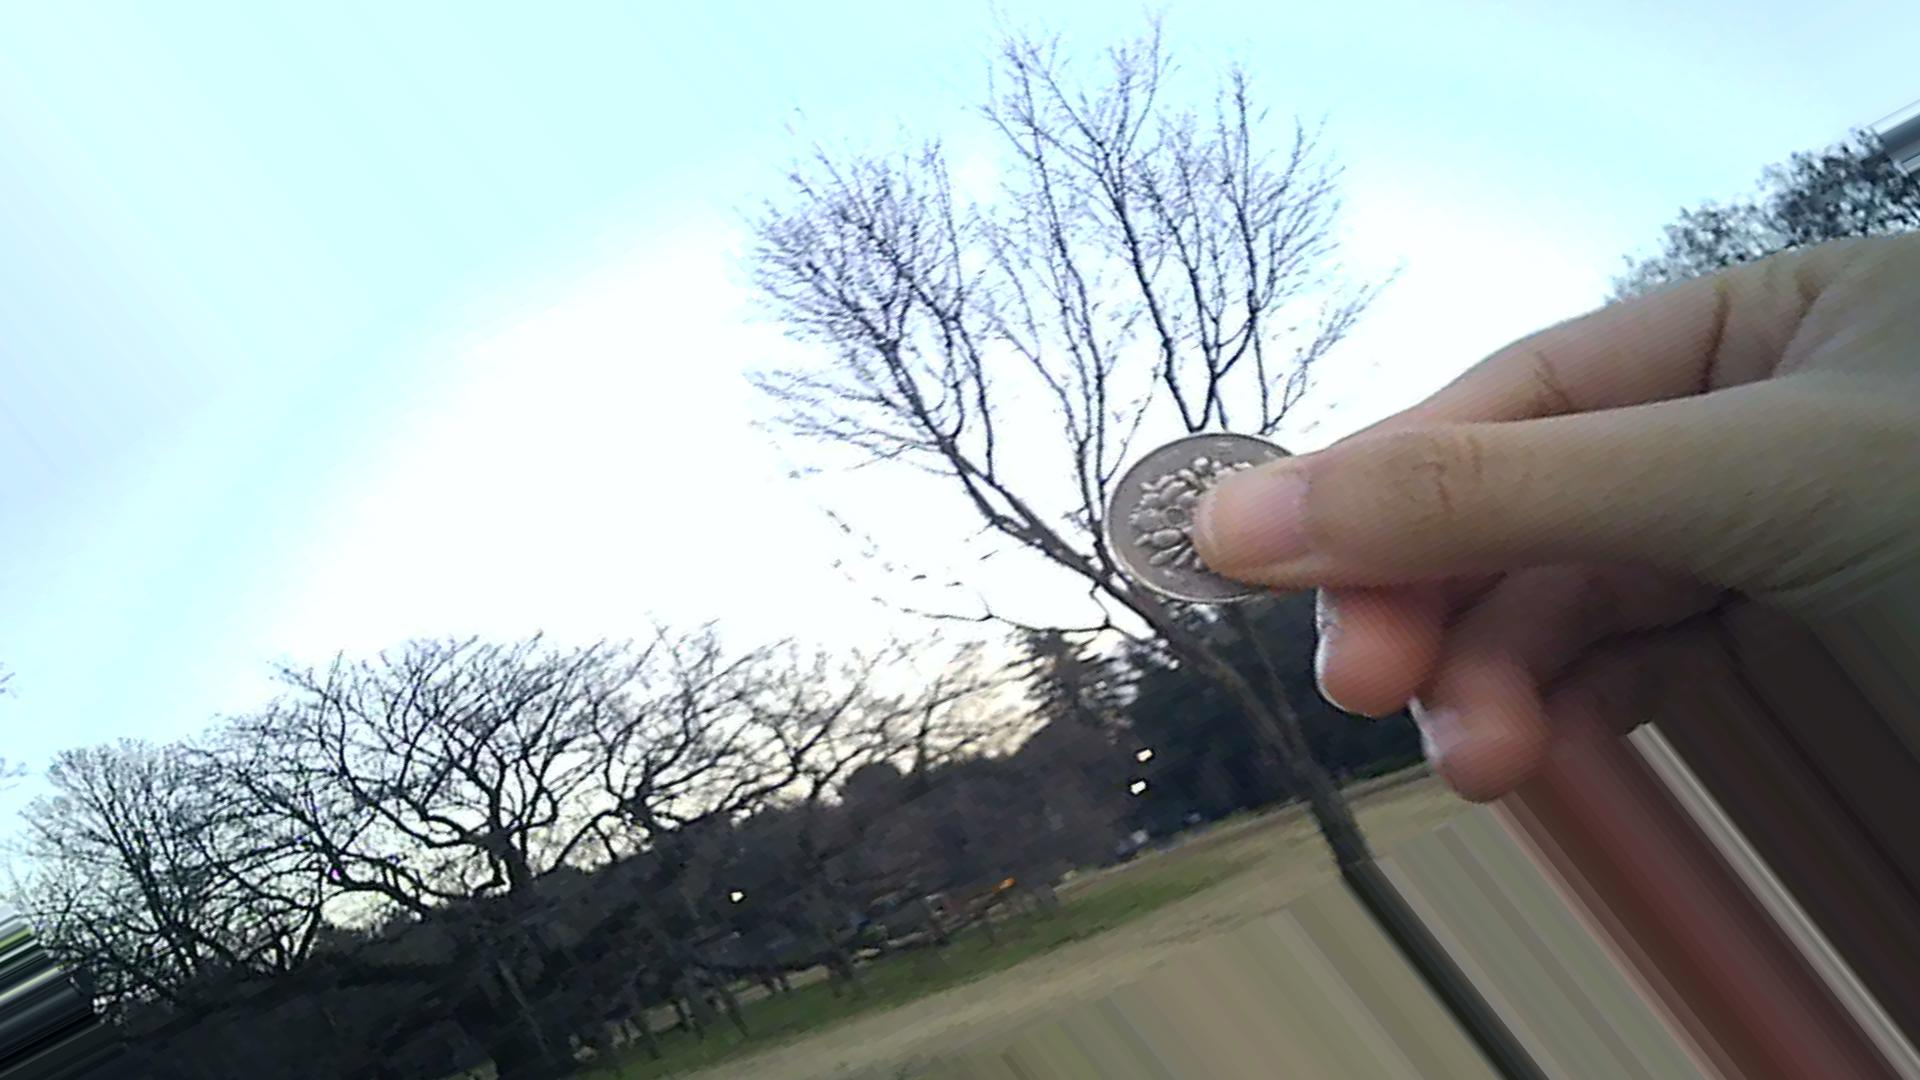100 Yen: (1101, 433, 1338, 621)
